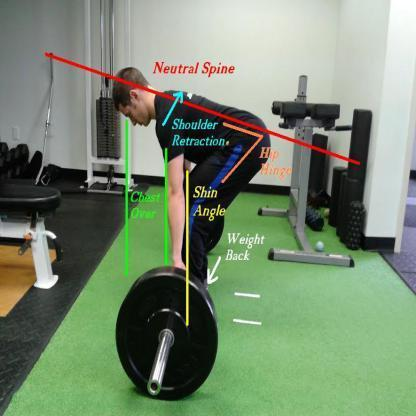barbell: (115, 198, 224, 403)
